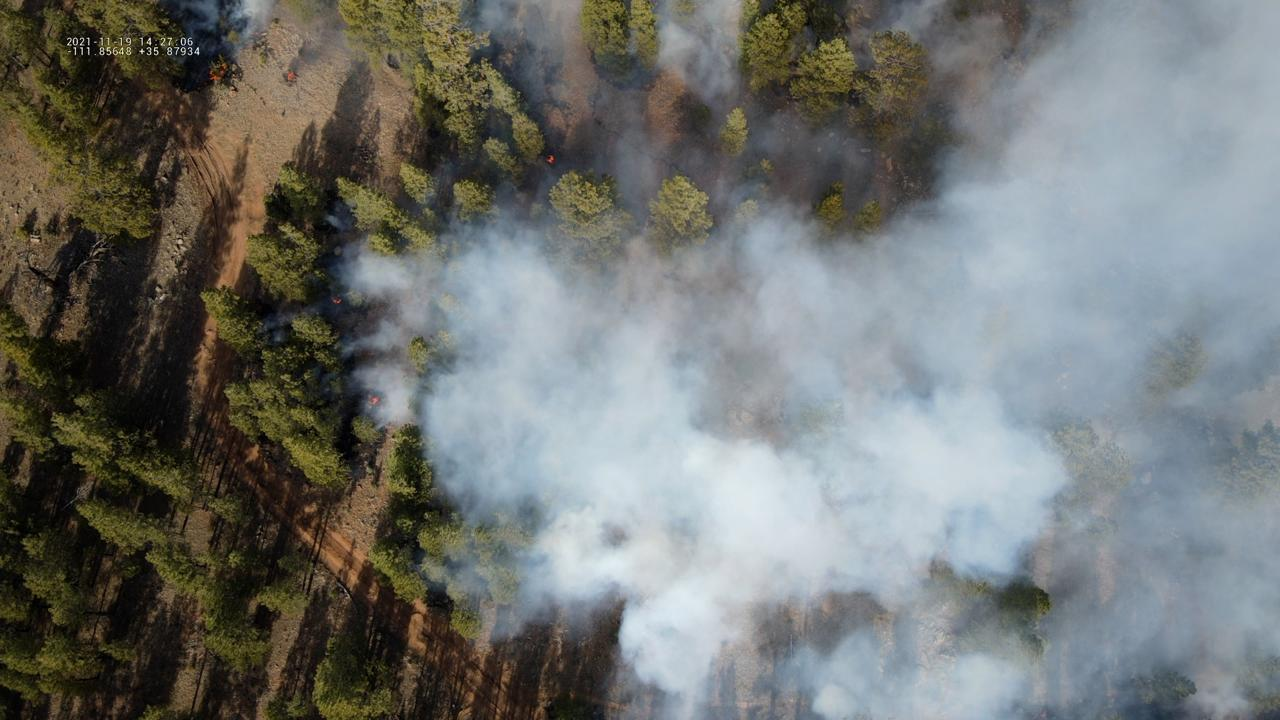fire: (207, 68, 227, 82), (287, 70, 297, 82), (369, 395, 380, 405), (545, 155, 555, 165), (332, 297, 342, 305)
smoke: (266, 0, 1280, 720), (161, 0, 277, 89)
